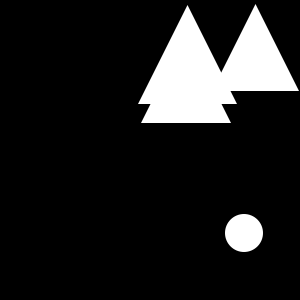rectangle: (225, 214, 263, 252)
triangle: (138, 5, 237, 104), (141, 33, 231, 123), (212, 4, 299, 91)
